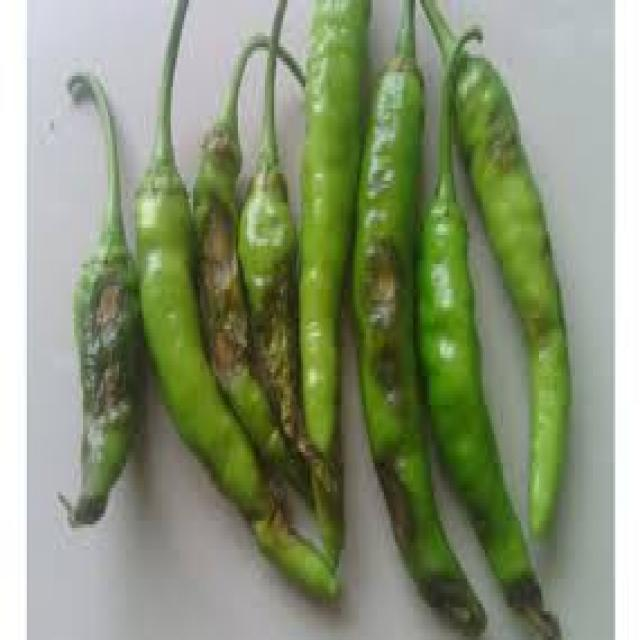organic waste: (130, 0, 337, 600), (413, 22, 559, 636), (348, 0, 485, 636), (418, 0, 570, 539), (189, 29, 310, 499), (236, 0, 339, 492), (294, 0, 370, 571), (61, 69, 137, 532)
